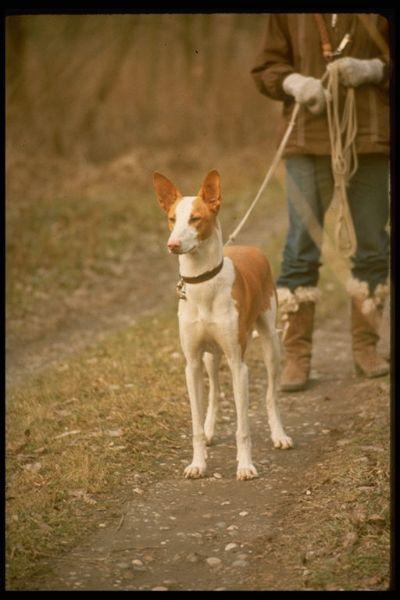Ibizan_hound: (147, 166, 294, 483)
